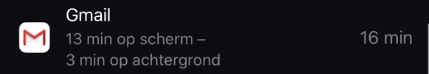name: (62, 3, 119, 27)
time: (63, 29, 116, 51), (65, 52, 107, 74)
